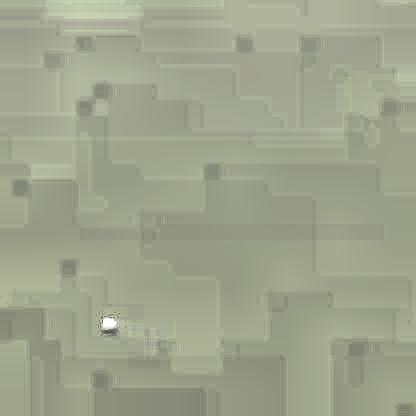golfball: (98, 314, 115, 331)
